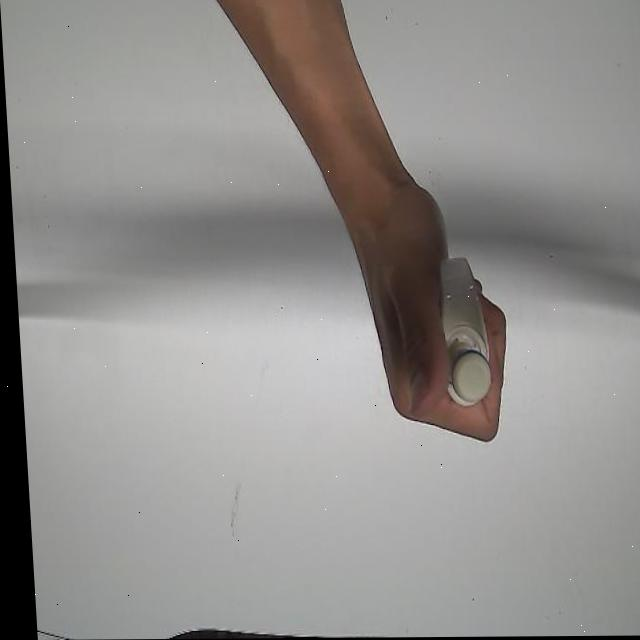Single Channel Pipettor: (428, 248, 491, 410)
